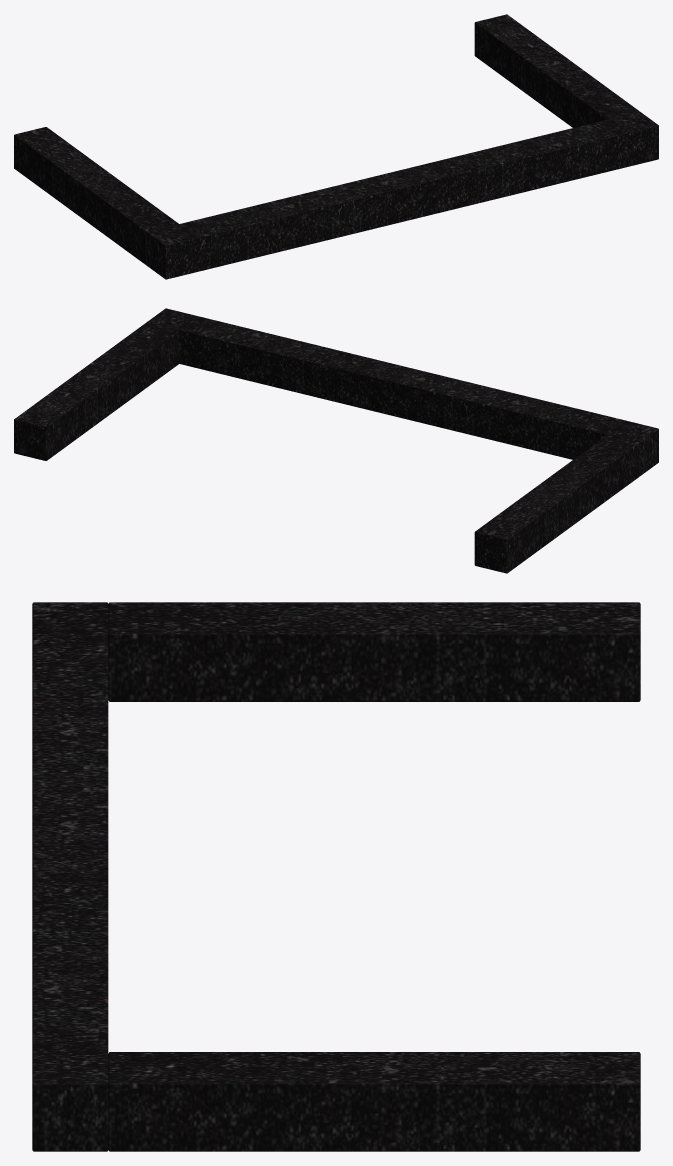
The model's file is Frame 150 x  70 x 10.gltf.
3 views of the same model, one above another, from view 1: azimuth 30°, elevation 25°; view 2: azimuth 150°, elevation 25°; view 3: azimuth 270°, elevation 25° (orthographic). The views are drawn at different scales.
Parts seen in each view (by area): view 1: Cube.046; view 2: Cube.046; view 3: Cube.046.
Part boxes in pixels (x1=…): Cube.046: x1=14, y1=14, x2=658, y2=279; Cube.046: x1=14, y1=308, x2=658, y2=573; Cube.046: x1=32, y1=602, x2=640, y2=1151.
Size of the model in its own units: 1.5 by 0.1 by 0.8.
1 material, 1 textured.
